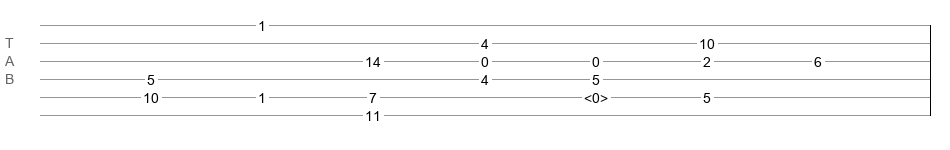0: (481, 54, 489, 64), (592, 54, 600, 64)
1: (258, 18, 266, 28), (258, 90, 266, 100)
10: (143, 90, 159, 100), (699, 36, 715, 46)
11: (365, 108, 381, 118)
14: (365, 54, 381, 64)
2: (703, 54, 711, 64)
4: (481, 36, 489, 46), (481, 72, 489, 82)
5: (147, 72, 155, 82), (592, 72, 600, 82), (703, 90, 711, 100)
6: (814, 54, 822, 64)
7: (369, 90, 377, 100)
harmonic: (584, 90, 608, 100)
